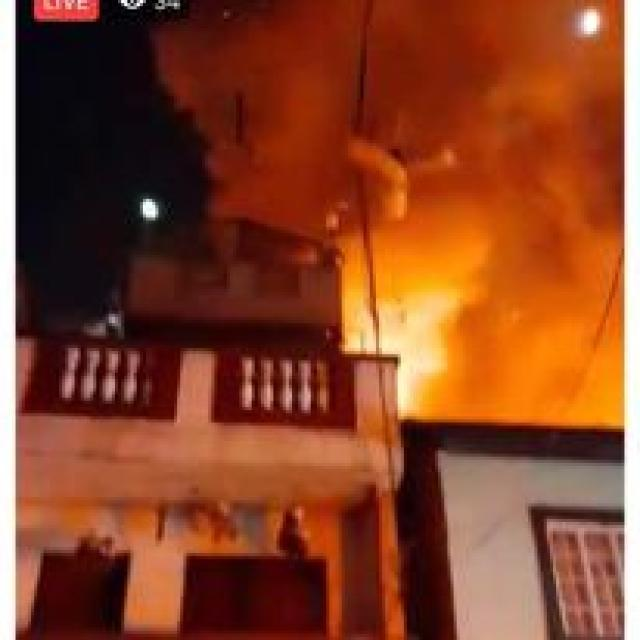Fire: (349, 285, 452, 428)
Smoke: (198, 0, 622, 272)
